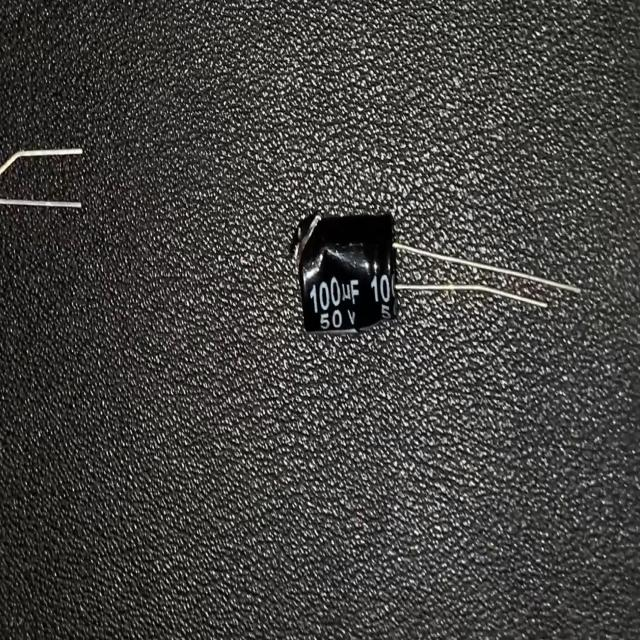capacitor: (286, 206, 584, 340)
cracked: (302, 243, 370, 299), (289, 212, 323, 270)
